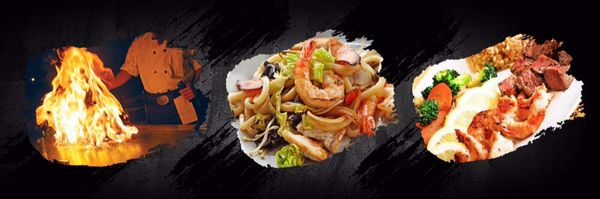curry: (414, 100, 439, 125)
